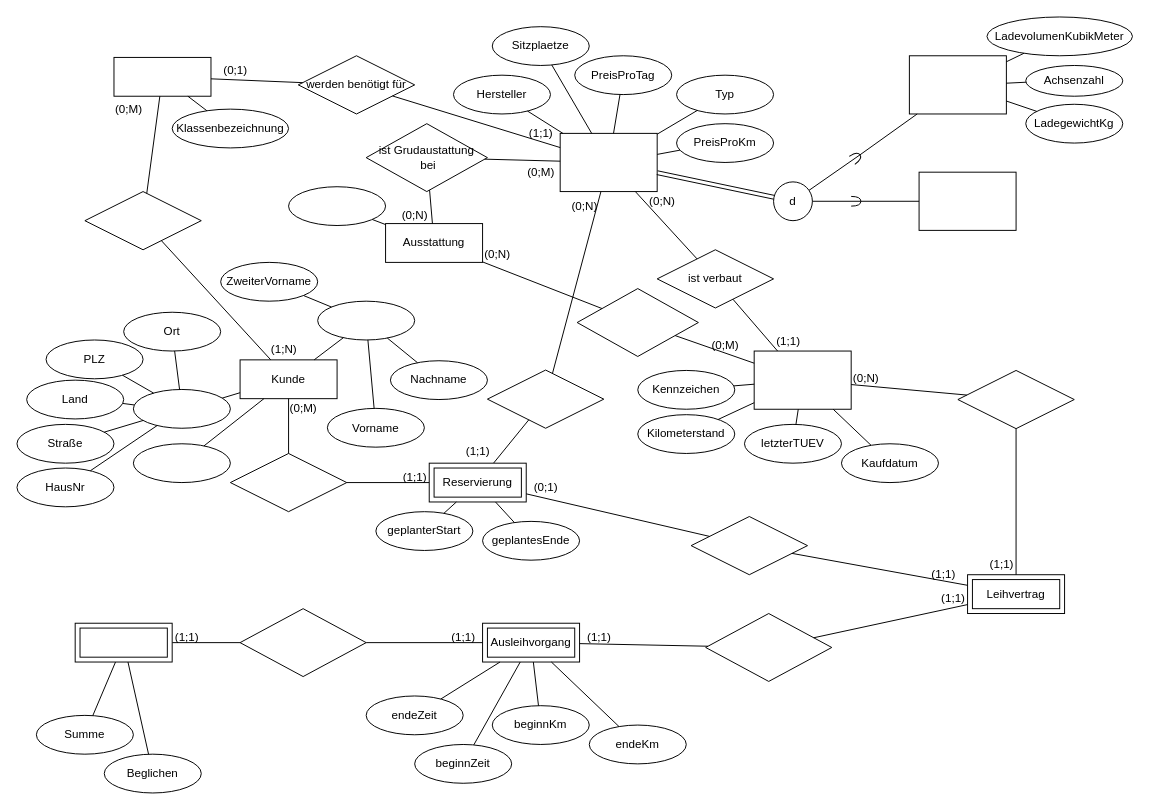
This 1149x810 diagram has some shape labels left out. Each missing label, with the centre of its shape:
"Adresse" belongs at (x=181, y=408).
"Autoexemplar" belongs at (x=802, y=379).
"Automodell" belongs at (x=608, y=162).
"besitzt" belongs at (x=142, y=220).
"Bezeichnung" belongs at (x=337, y=206).
"EMail" belongs at (x=181, y=463).
"Fuehrerschein- klassen" belongs at (x=162, y=76).
"führt zu" belongs at (x=749, y=545).
"ist Nachgerüstet bei" belongs at (x=637, y=322).
"legitimiert" belongs at (x=768, y=647).
"LKW" belongs at (x=957, y=84).
"Name" belongs at (x=366, y=320).
"PKW" belongs at (x=967, y=200).
"Rechnung" belongs at (x=123, y=642).
"reserviert" belongs at (x=545, y=398).
"tätigt" belongs at (x=288, y=482).
"weden vermietet" belongs at (x=1015, y=399).
"zu" belongs at (x=302, y=642).
